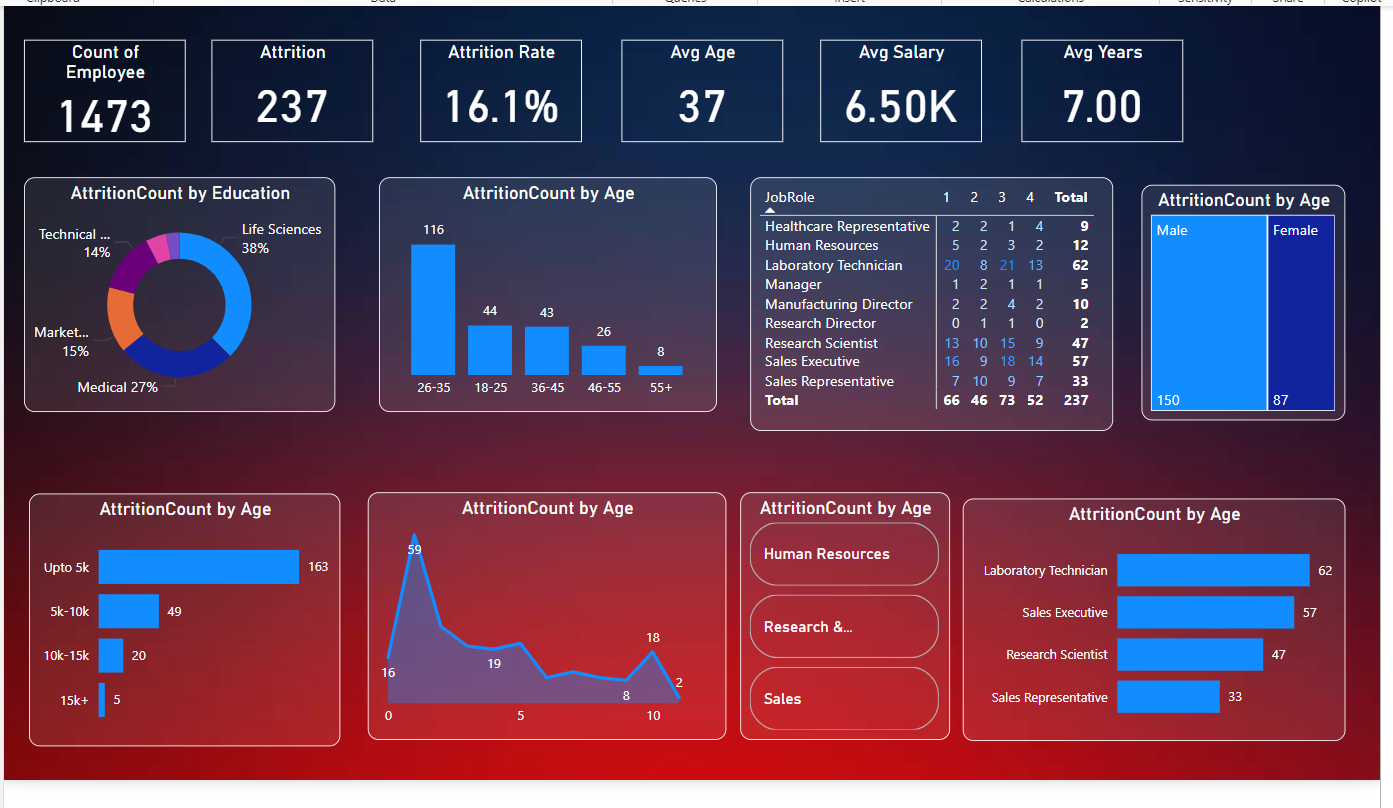

What the dashboard file says about the page in this screenshot:
{"tool":"powerbi","page":{"name":"Page 1","canvas":[1280,720],"ordinal":0},"visuals":[{"type":"card","title":"Count of Employee","fields":{"Values":["CountNonNull(HR_Analytics.EmpID)"]},"box":[18.1,31.9,150,95.3],"z":0},{"type":"card","title":"Attrition","fields":{"Values":["Sum(HR_Analytics.AttritionCount)"]},"box":[192.6,31.9,150,95.3],"z":1000},{"type":"card","title":"Attrition Rate","fields":{"Values":["HR_Analytics.AttritionRate"]},"box":[386.7,31.9,150,95.3],"z":2000},{"type":"card","title":"Avg Age","fields":{"Values":["Avg(HR_Analytics.Age)"]},"box":[574,31.9,150,95.3],"z":3000},{"type":"card","title":"Avg Salary","fields":{"Values":["Avg(HR_Analytics.MonthlyIncome)"]},"box":[758.8,31.9,150,95.3],"z":4000},{"type":"card","title":"Avg Years","fields":{"Values":["Avg(HR_Analytics.YearsAtCompany)"]},"box":[946,31.9,150,95.3],"z":5000},{"type":"donutChart","title":"AttritionCount by Education","fields":{"Category":["HR_Analytics.EducationField"],"Y":["Sum(HR_Analytics.AttritionCount)"]},"box":[18.6,159.3,289.5,218.6],"z":6000},{"type":"columnChart","title":"AttritionCount by Age","fields":{"Category":["HR_Analytics.AgeGroup"],"Y":["Sum(HR_Analytics.AttritionCount)"]},"box":[348.5,159.2,314.2,218.2],"z":7000},{"type":"pivotTable","fields":{"Rows":["HR_Analytics.JobRole"],"Columns":["HR_Analytics.JobSatisfaction"],"Values":["Sum(HR_Analytics.AttritionCount)"]},"box":[694.3,159.2,337.6,236],"z":8000},{"type":"barChart","title":"AttritionCount by Age","fields":{"Category":["HR_Analytics.SalarySlab"],"Y":["Sum(HR_Analytics.AttritionCount)"]},"box":[23.3,453.5,289.5,234.9],"z":9000},{"type":"barChart","title":"AttritionCount by Age","fields":{"Y":["Sum(HR_Analytics.AttritionCount)"],"Category":["HR_Analytics.JobRole"]},"box":[891.9,458.1,355.8,225.6],"z":10000},{"type":"areaChart","title":"AttritionCount by Age","fields":{"Category":["HR_Analytics.YearsAtCompany"],"Y":["Sum(HR_Analytics.AttritionCount)"]},"box":[338.9,452.8,333.4,230.5],"z":11000},{"type":"treemap","title":"AttritionCount by Age","fields":{"Group":["HR_Analytics.Gender"],"Values":["Sum(HR_Analytics.AttritionCount)"]},"box":[1058,166,189.4,219.6],"z":12000},{"type":"advancedSlicerVisual","title":"AttritionCount by Age","fields":{"Values":["HR_Analytics.Department"]},"box":[684.7,452.8,194.9,230.5],"z":12001}]}

Visuals, with their boxes on the page's 1280x720 design canvas (x1, y1, x2, y2). These are canvas units, not pixel positions in the 1393x808 screenshot, which may show the page scaled, cropped or inside an application window:
"Count of Employee" card: left=18, top=32, right=168, bottom=127
"Attrition" card: left=193, top=32, right=343, bottom=127
"Attrition Rate" card: left=387, top=32, right=537, bottom=127
"Avg Age" card: left=574, top=32, right=724, bottom=127
"Avg Salary" card: left=759, top=32, right=909, bottom=127
"Avg Years" card: left=946, top=32, right=1096, bottom=127
"AttritionCount by Education" donutChart: left=19, top=159, right=308, bottom=378
"AttritionCount by Age" columnChart: left=348, top=159, right=663, bottom=377
pivotTable - HR_Analytics.JobRole x HR_Analytics.JobSatisfaction: left=694, top=159, right=1032, bottom=395
"AttritionCount by Age" barChart: left=23, top=454, right=313, bottom=688
"AttritionCount by Age" barChart: left=892, top=458, right=1248, bottom=684
"AttritionCount by Age" areaChart: left=339, top=453, right=672, bottom=683
"AttritionCount by Age" treemap: left=1058, top=166, right=1247, bottom=386
"AttritionCount by Age" advancedSlicerVisual: left=685, top=453, right=880, bottom=683
